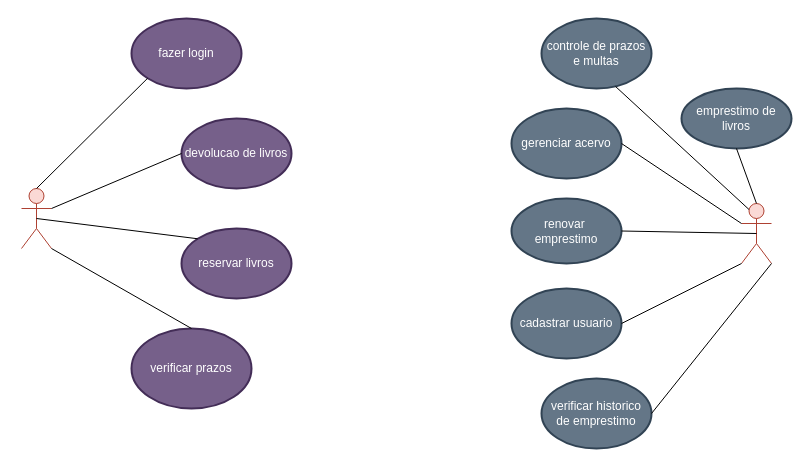
The diagram is 810 pixels wide and 466 high, and some of its shapes have lost their labels. Here are the shapes that lost their labels. From the top down, the box of each, then its label:
(20, 188, 52, 248): usúario
(740, 202, 772, 264): bibliotecario
